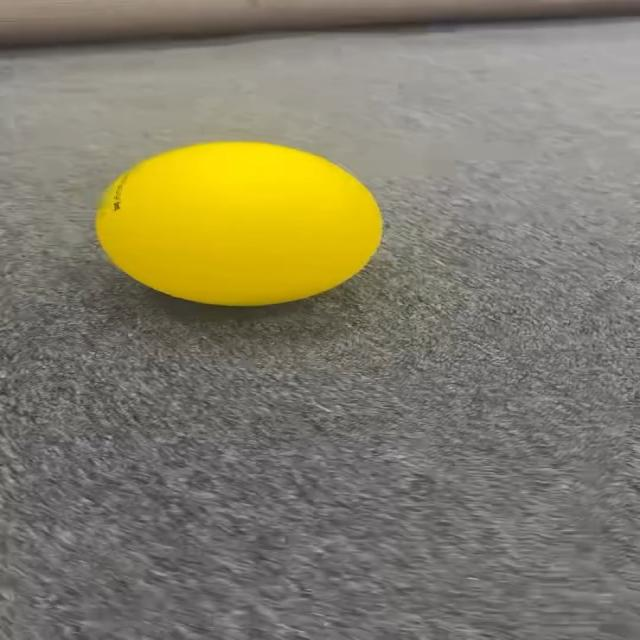Fuels: (96, 142, 379, 303)
